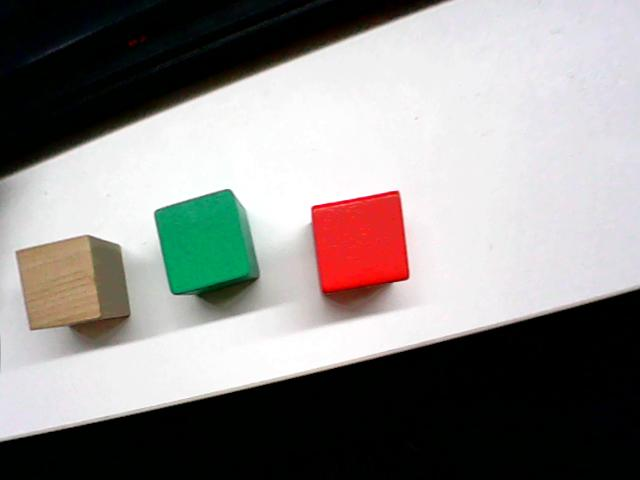green_box: (151, 185, 261, 297)
raw_box: (9, 228, 133, 334)
red_box: (307, 186, 413, 297)
